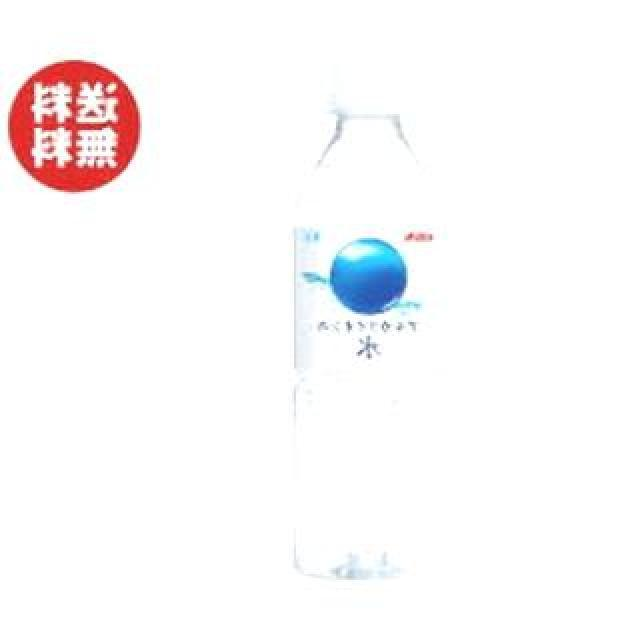Pet_Bottle: (285, 48, 457, 594)
